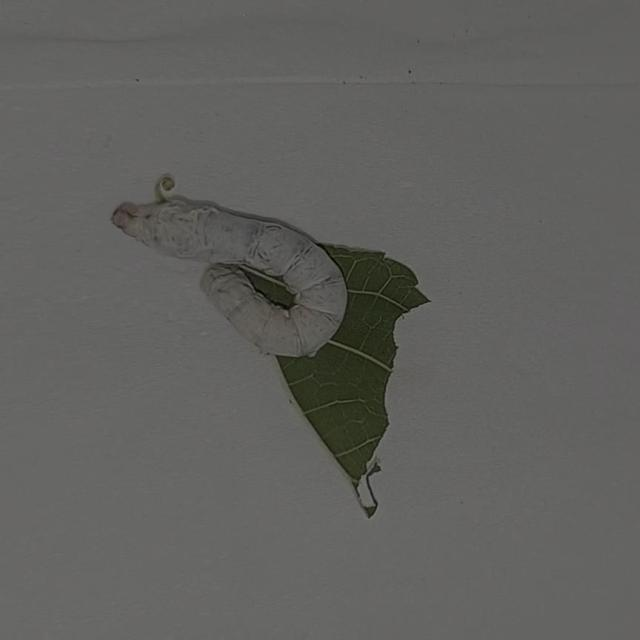Healthy: (92, 147, 366, 373)
